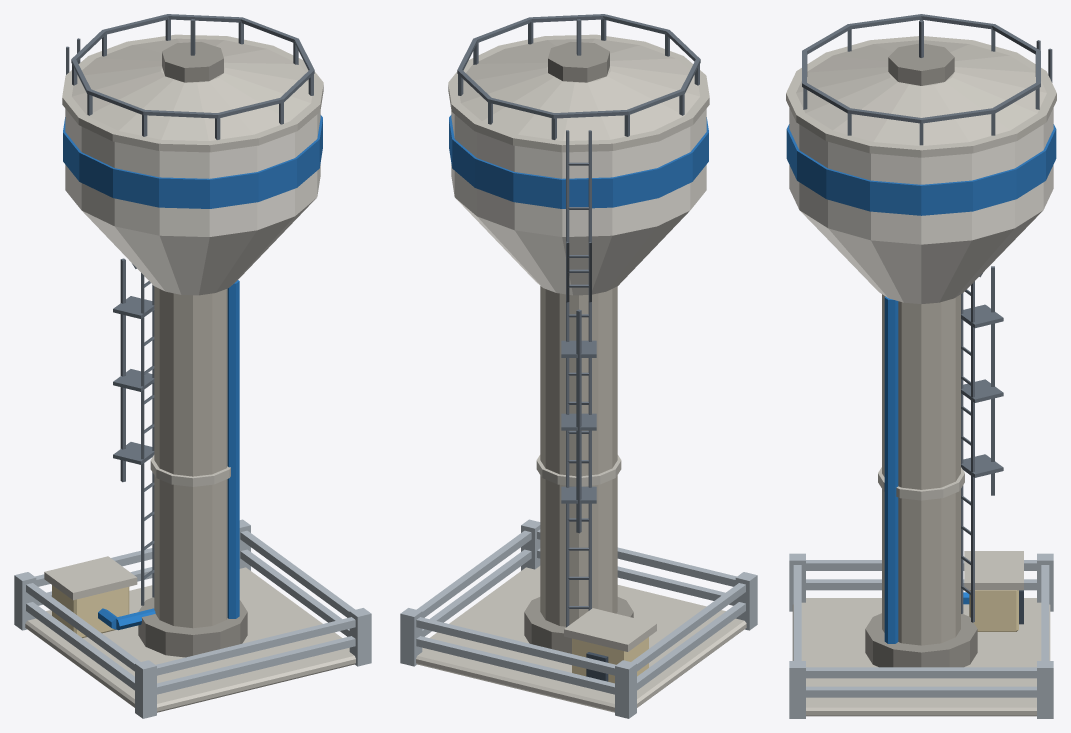
File: caixa_dagua_taca.glb
3 renders of one model, left to right at view 1: azimuth 30°, elevation 25°; view 2: azimuth 150°, elevation 25°; view 3: azimuth 270°, elevation 25°, orthographic. The views are drawn at different scales.
Parts seen in each view (by area): view 1: corpo; view 2: corpo; view 3: corpo.
Part boxes in pixels (x1=…): corpo: x1=14, y1=14, x2=371, y2=718; corpo: x1=400, y1=14, x2=757, y2=718; corpo: x1=786, y1=14, x2=1056, y2=718.
Bounding box in the file's own units: 0.82 × 2.14 × 0.82.
